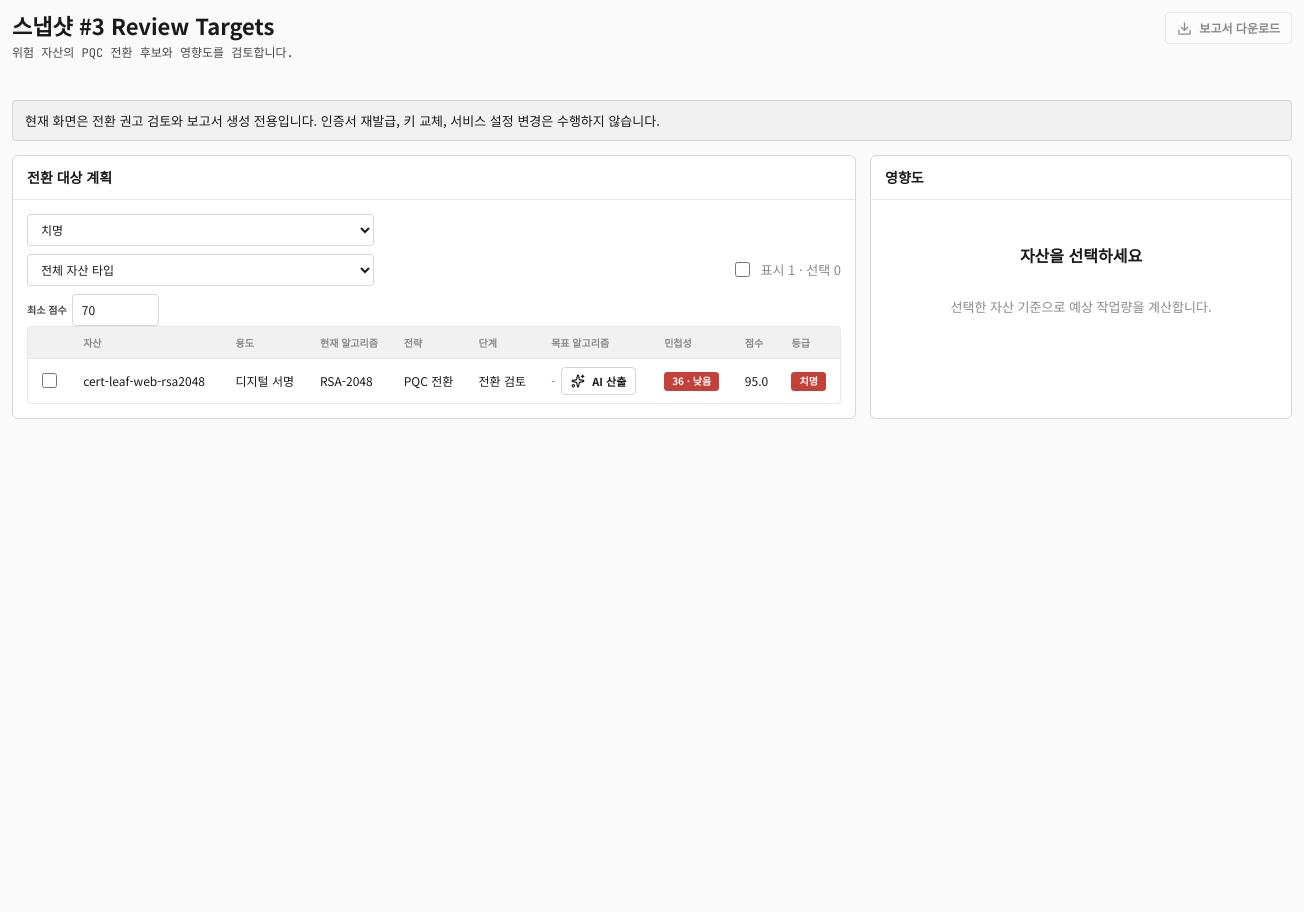
Test: MigrationPlanView › applies guarded AI migration recommendations to the visible row
Click the button "AI 산출" at (599, 381), box [561,367,636,395]
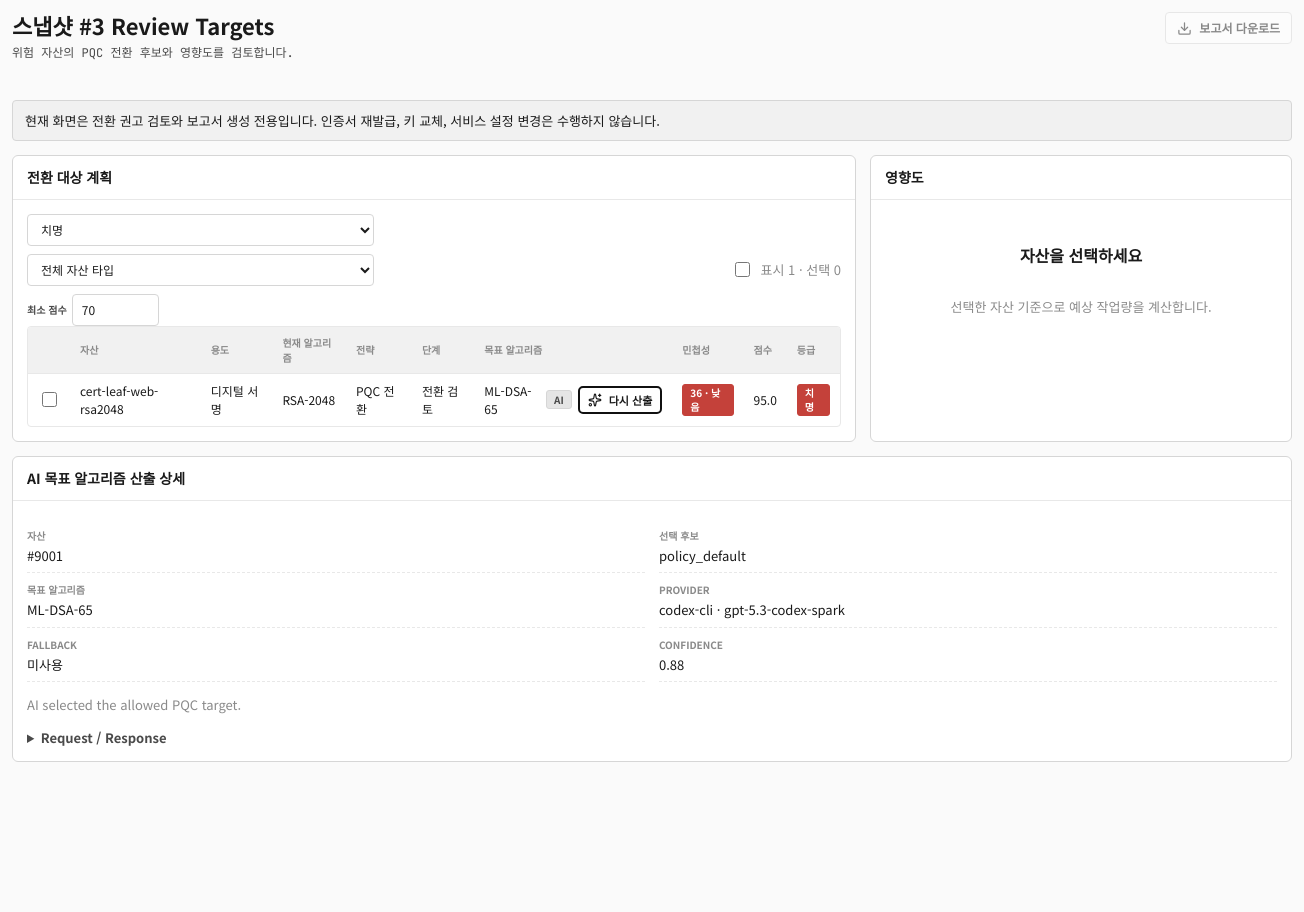
Check: the text "ML-DSA-65" in the row of "cert-leaf-web-rsa2048" is shown, box [484,382,532,417]
Check: the heading "AI 목표 알고리즘 산출 상세" is shown, box [27,469,185,488]
Check: the text "AI selected the allowed PQC target." is shown, box [27,695,241,714]
